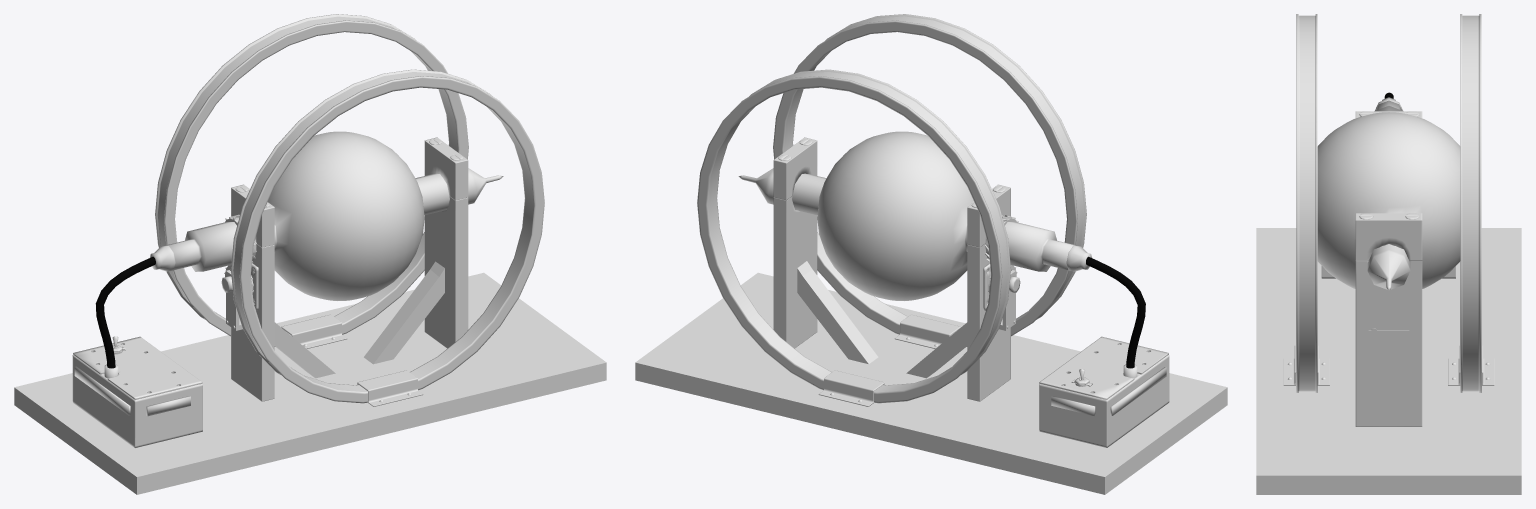
Rendered from CR_Without-Arrow_L.fbx.
3 views of the same model, side by side, from view 1: azimuth 30°, elevation 25°; view 2: azimuth 150°, elevation 25°; view 3: azimuth 270°, elevation 25° (orthographic). The views are drawn at different scales.
Visible parts, largest first — view 1: estático, aros, vidro.001, suporte_madeira1, caixa, dinâmico; view 2: estático, aros, vidro.001, suporte_madeira1, caixa, dinâmico; view 3: estático, vidro.001, aros, suporte_madeira1, placa_extra, dinâmico.
Boxes of the visible parts, x1=… form: estático: x1=14, y1=272, x2=606, y2=494; aros: x1=155, y1=14, x2=544, y2=406; vidro.001: x1=256, y1=131, x2=503, y2=300; suporte_madeira1: x1=231, y1=137, x2=468, y2=401; caixa: x1=72, y1=256, x2=202, y2=447; dinâmico: x1=150, y1=222, x2=236, y2=271; estático: x1=635, y1=272, x2=1227, y2=494; aros: x1=697, y1=14, x2=1086, y2=406; vidro.001: x1=738, y1=131, x2=973, y2=300; suporte_madeira1: x1=773, y1=137, x2=1010, y2=401; caixa: x1=1039, y1=256, x2=1169, y2=447; dinâmico: x1=1005, y1=222, x2=1091, y2=271; estático: x1=1256, y1=228, x2=1521, y2=494; vidro.001: x1=1317, y1=112, x2=1460, y2=290; aros: x1=1283, y1=14, x2=1494, y2=392; suporte_madeira1: x1=1355, y1=111, x2=1422, y2=426; placa_extra: x1=1368, y1=328, x2=1409, y2=340; dinâmico: x1=1374, y1=97, x2=1403, y2=111.
Size of the model in its own units: 552 by 375 by 250.
